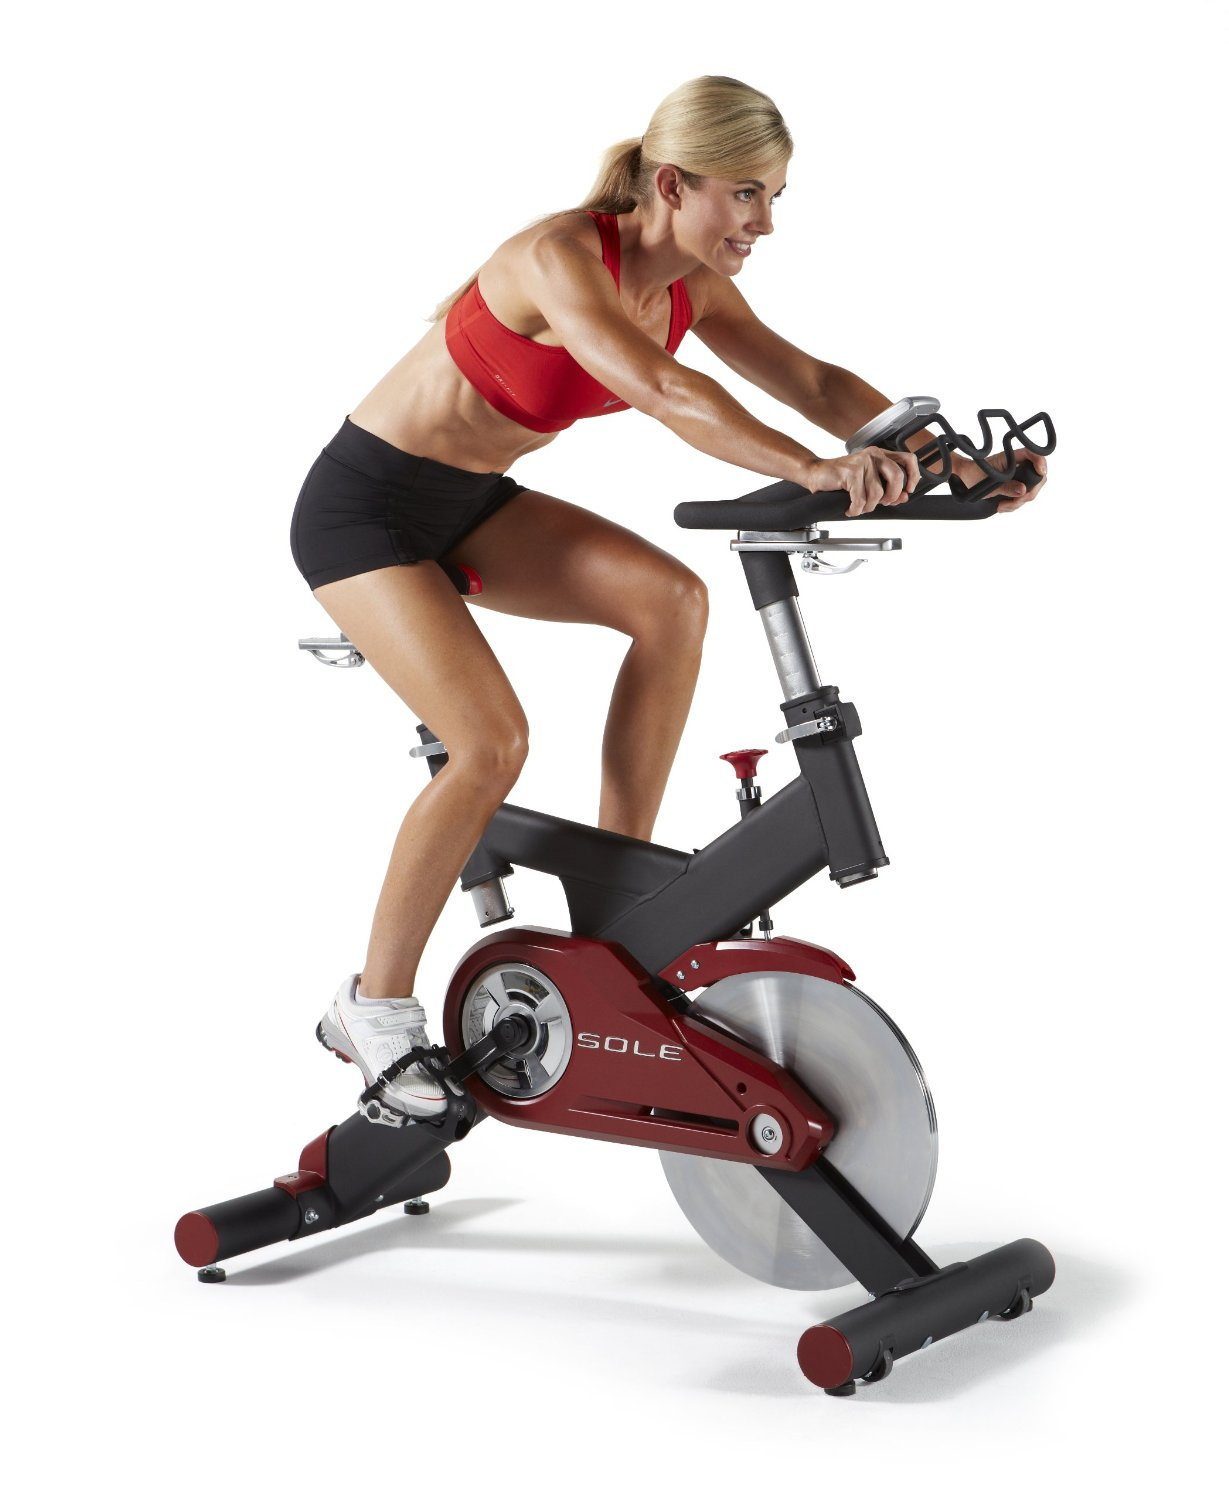gym_bike: (312, 439, 1042, 1394)
